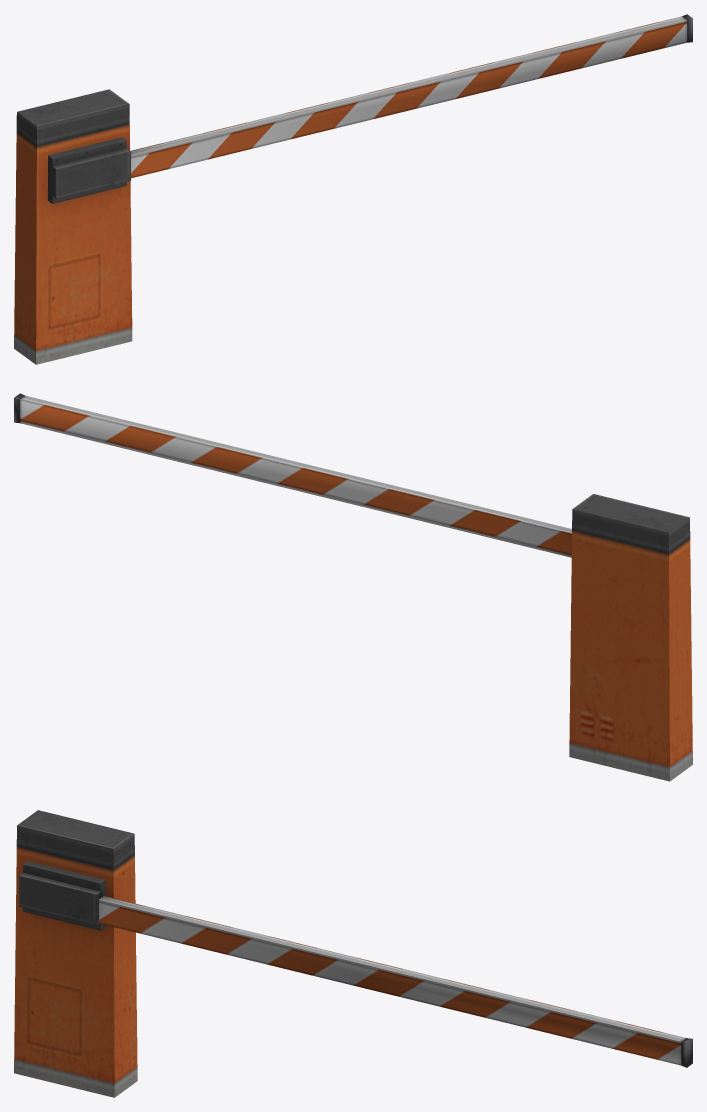
Rendered from barrier.fbx.
The picture shows the model from 3 angles, top to bottom: view 1: azimuth 30°, elevation 25°; view 2: azimuth 150°, elevation 25°; view 3: azimuth 330°, elevation 25°; orthographic projection. The views are drawn at different scales.
Parts seen in each view (by area): view 1: Object361, Object360; view 2: Object361, Object360; view 3: Object361, Object360.
Boxes of the visible parts, box(x1,y1,x2,y2) form: Object361: box(14, 89, 132, 364); Object360: box(131, 14, 692, 178); Object361: box(569, 494, 692, 781); Object360: box(14, 393, 571, 557); Object361: box(14, 810, 137, 1097); Object360: box(99, 896, 692, 1067).
Size of the model in its own units: 27.89 by 9.71 by 2.21.
1 material, 1 textured.
